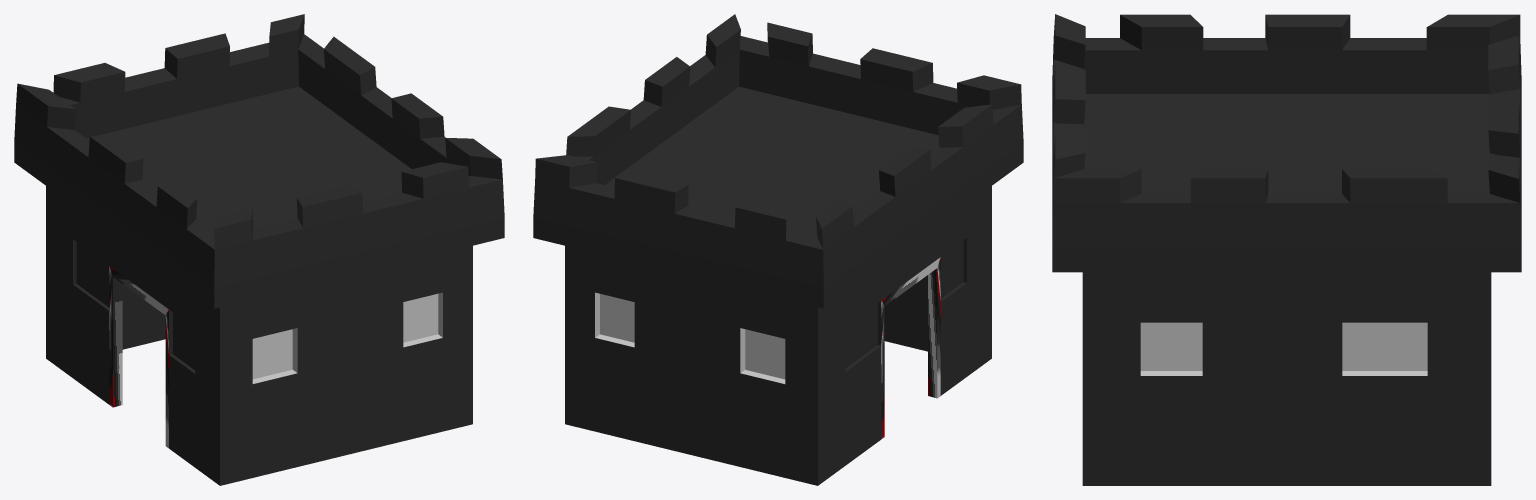
File: CastleCenter.fbx
3 views of the same model, side by side, from view 1: azimuth 30°, elevation 25°; view 2: azimuth 150°, elevation 25°; view 3: azimuth 270°, elevation 25° (orthographic). The views are drawn at different scales.
Parts seen in each view (by area): view 1: centre_tower_piece; view 2: centre_tower_piece; view 3: centre_tower_piece.
Boxes of the visible parts, x1,y1,x2,y2 form: centre_tower_piece: (14,14,504,485); centre_tower_piece: (533,14,1023,485); centre_tower_piece: (1052,14,1521,485).
Size of the model in its own units: 1513 by 1411 by 1803.
